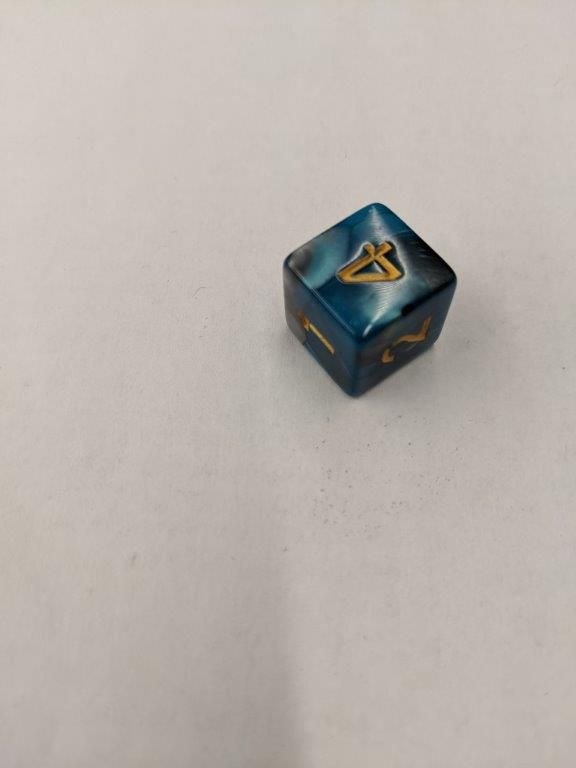d6-4: (284, 202, 456, 395)
